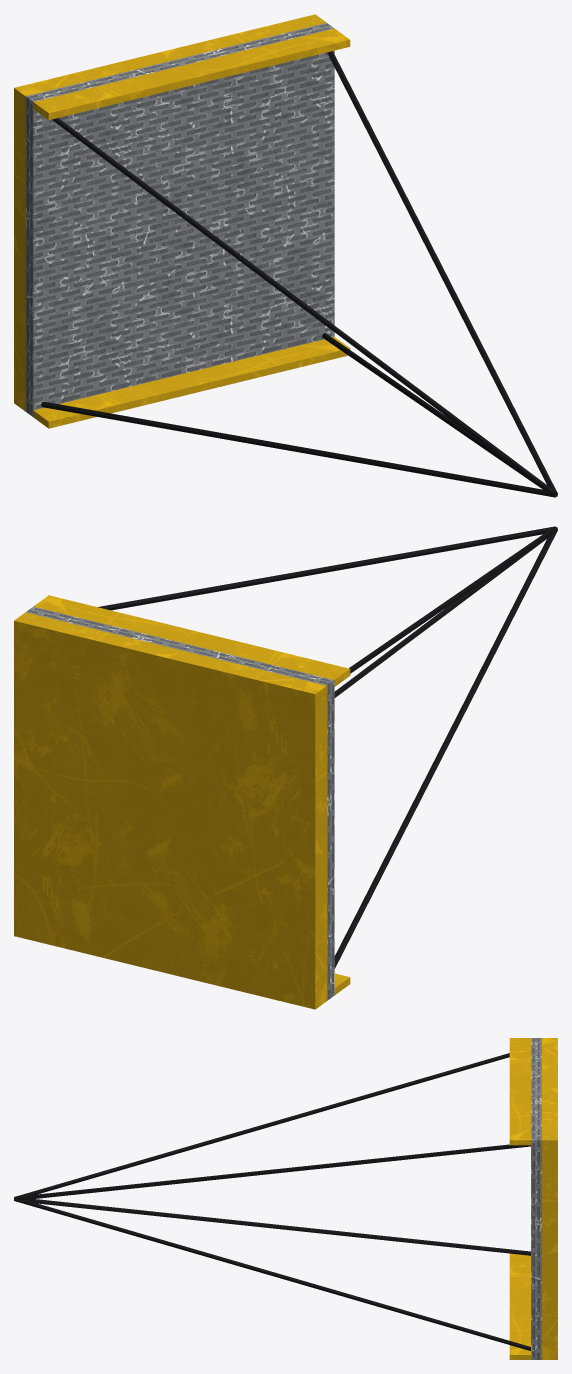
The model's file is lifting_platform.glb.
3 renders of one model, top to bottom at view 1: azimuth 30°, elevation 25°; view 2: azimuth 150°, elevation 25°; view 3: azimuth 270°, elevation 25°, orthographic. The views are drawn at different scales.
Visible parts, largest first — view 1: lifting_platform; view 2: lifting_platform; view 3: lifting_platform.
Boxes of the visible parts, left/top/right/bottom form: lifting_platform: left=14, top=14, right=557, bottom=497; lifting_platform: left=14, top=526, right=557, bottom=1009; lifting_platform: left=14, top=1038, right=557, bottom=1359.
Size of the model in its own units: 0.9 by 0.9 by 2.02.
Materials: 3 (2 with a texture image).
